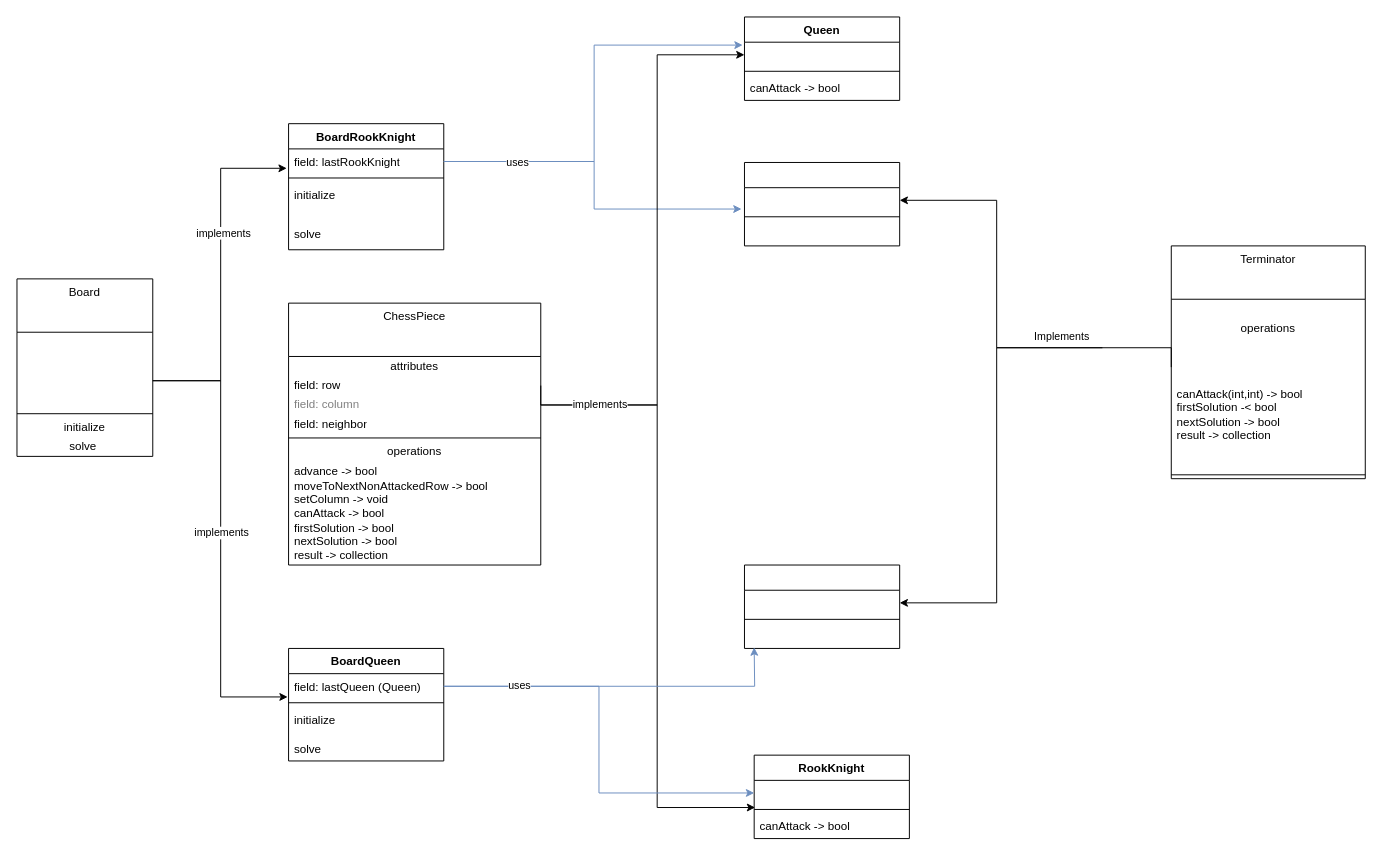
The diagram is 1382 pixels wide and 858 high, and some of its shapes have lost their labels. The centre of each missing label's shape, as x and y in pixels:
QueenTerminator: [822,204]
RookKnightTerminator: [822,606]
